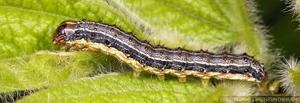fallarmy_worm: (50, 14, 270, 86)
